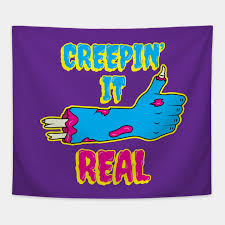thumbs_up: (38, 72, 187, 141)
